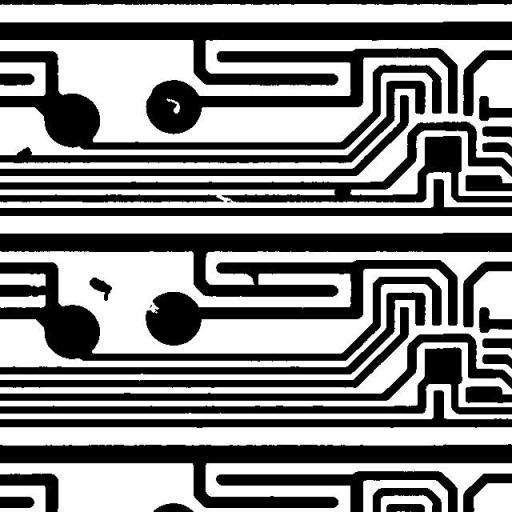copper: (82, 270, 119, 308)
mousebite: (138, 291, 166, 321)
open: (205, 184, 240, 210)
pin-hole: (158, 90, 188, 121)
short: (22, 278, 56, 304), (326, 180, 360, 206), (240, 262, 266, 293)
spur: (9, 139, 39, 164)
